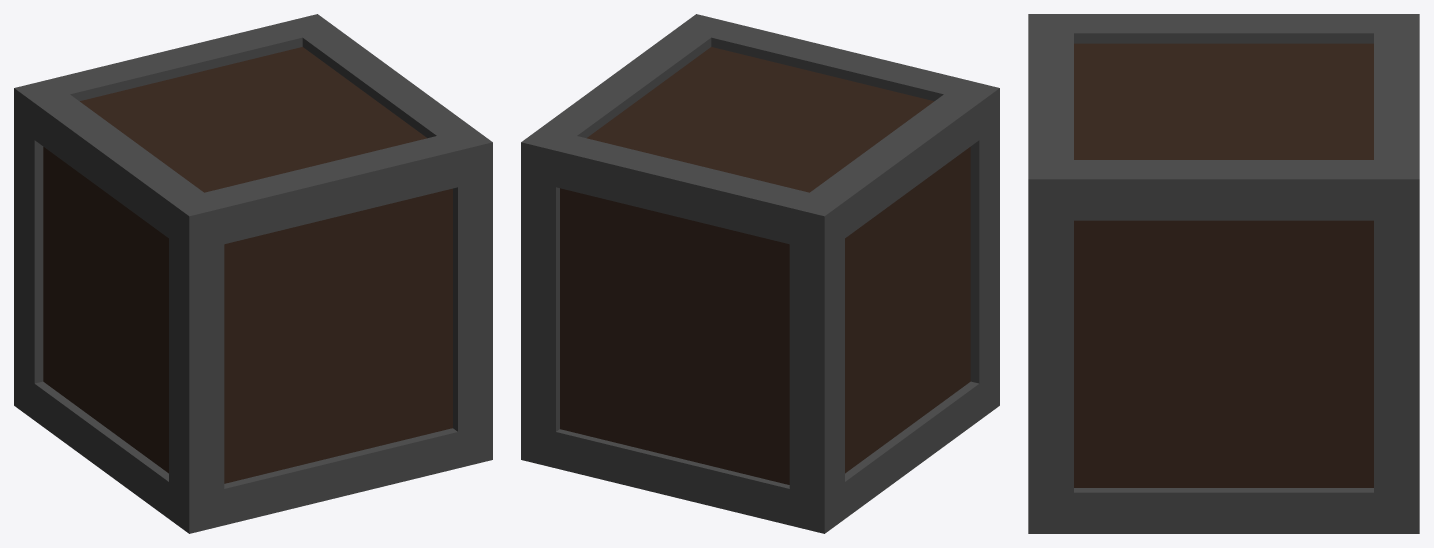
File: envi_crate2.fbx
3 views of the same model, side by side, from view 1: azimuth 30°, elevation 25°; view 2: azimuth 150°, elevation 25°; view 3: azimuth 270°, elevation 25° (orthographic). The views are drawn at different scales.
Visible parts, largest first — view 1: pCube92; view 2: pCube92; view 3: pCube92.
Boxes of the visible parts, left/top/right/bottom form: pCube92: left=14, top=14, right=492, bottom=533; pCube92: left=521, top=14, right=999, bottom=533; pCube92: left=1028, top=14, right=1419, bottom=533.
Bounding box in the file's own units: 1.69 × 1.69 × 1.69.
